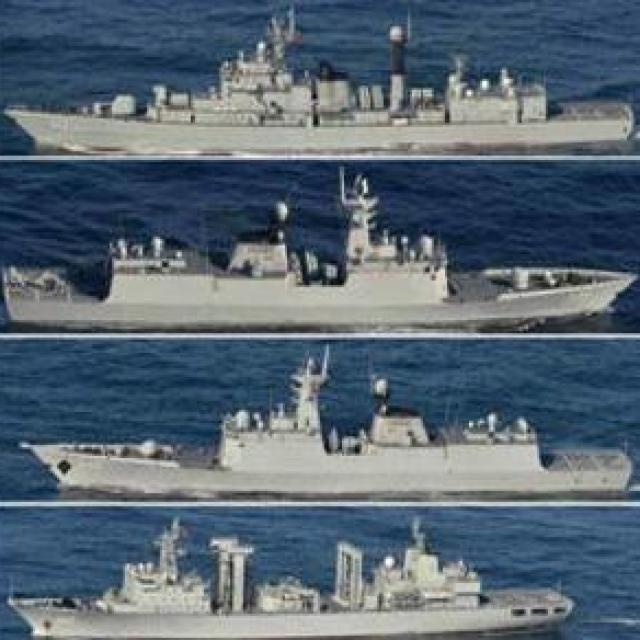navalvessels: (0, 168, 633, 333), (6, 341, 628, 503), (4, 7, 627, 158), (0, 508, 576, 639)
